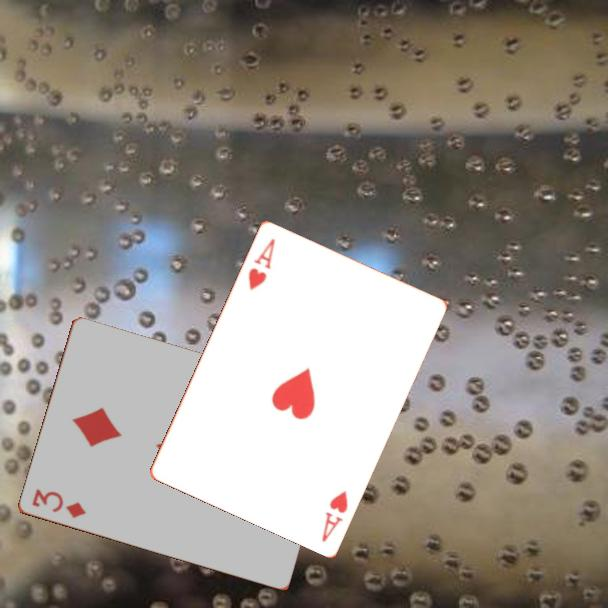d03: (28, 485, 89, 522)
h01: (244, 234, 278, 293), (318, 486, 351, 545)
